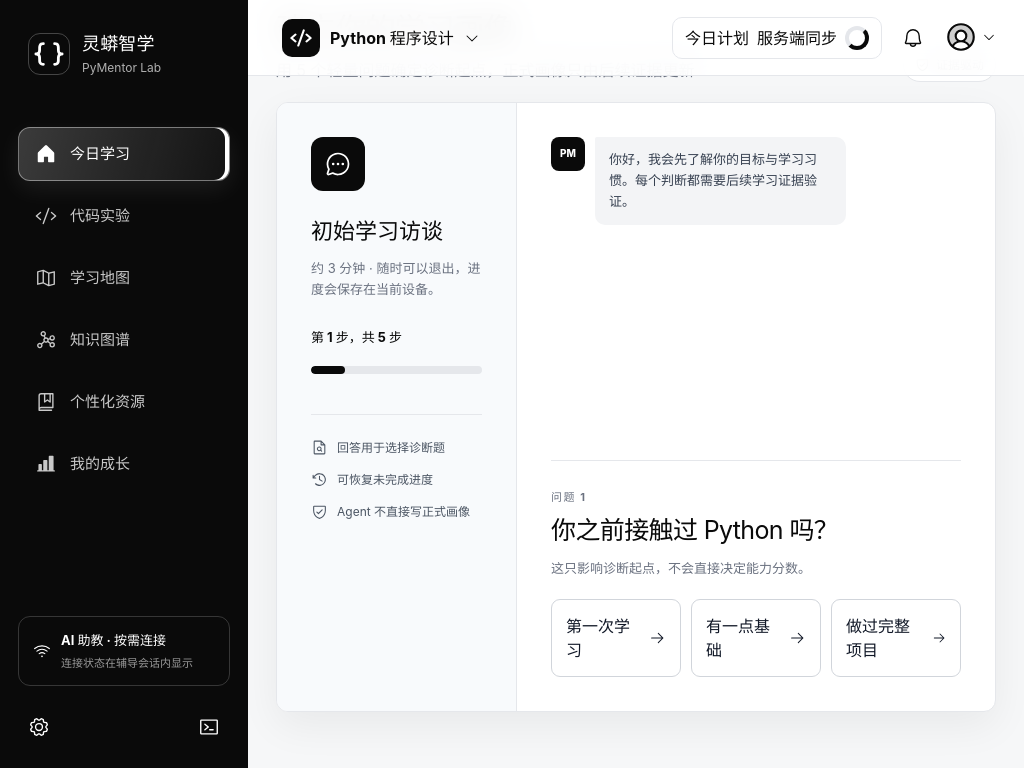
conversational onboarding › advances an explicit, recoverable diagnosis conversation
(page scrolled)
Expected: the heading "建立你的学习画像" is shown, x1=276 y1=10 x2=513 y2=46
Expected: the message named "对话进度" reads "第 1 步，共 5 步", x1=311 y1=330 x2=402 y2=346
Click the button "有一点基础" at [756, 638], box x1=691 y1=599 x2=821 y2=677
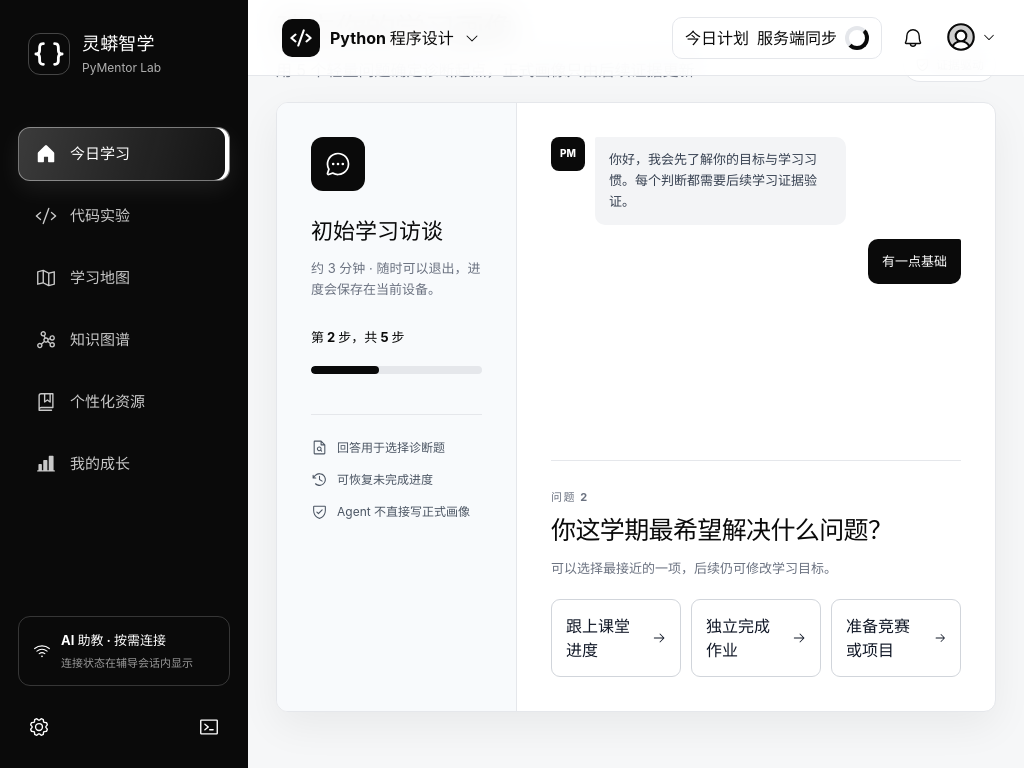
Now the message named "对话进度" reads "第 2 步，共 5 步", box x1=311 y1=330 x2=405 y2=346
